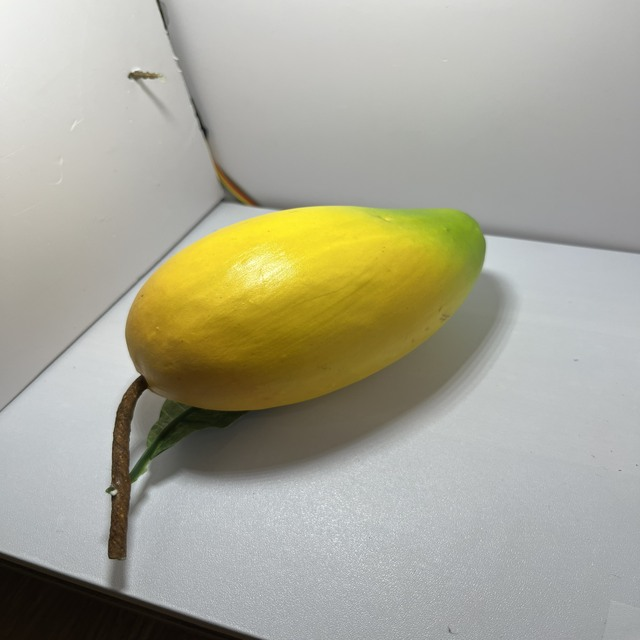Xoai: (87, 131, 530, 468)
